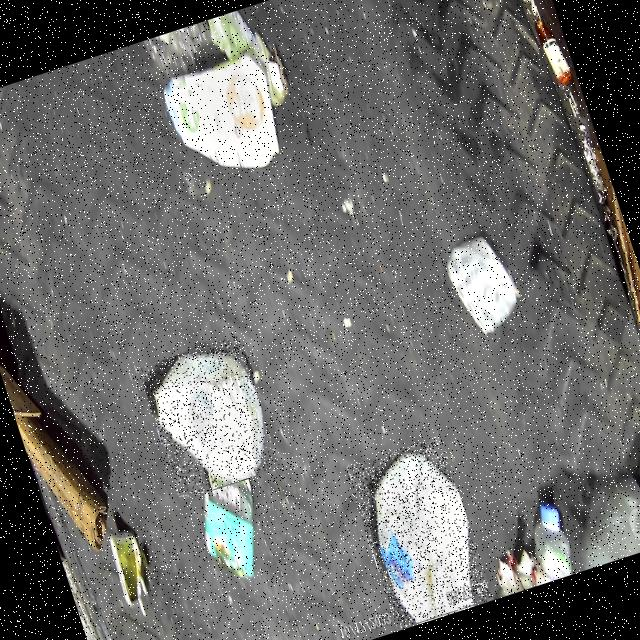milk-jug: (344, 435, 494, 630), (137, 335, 281, 501)
